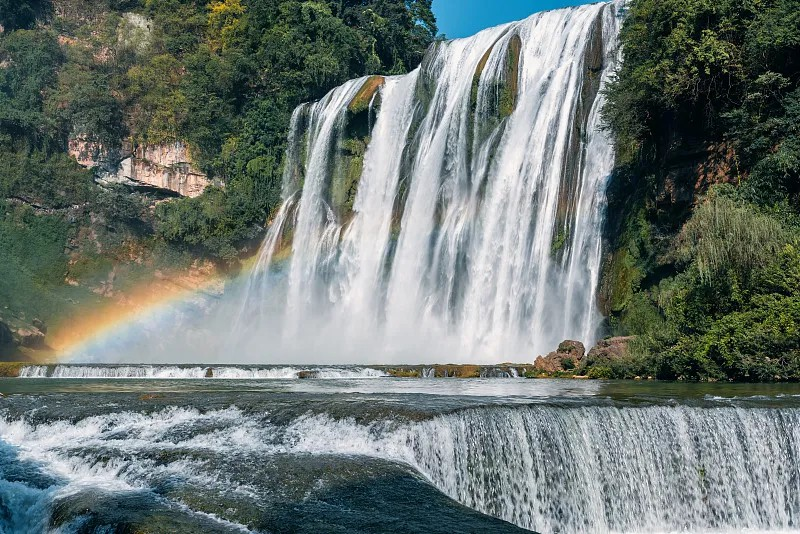Huangguoshu: (240, 2, 623, 363)
